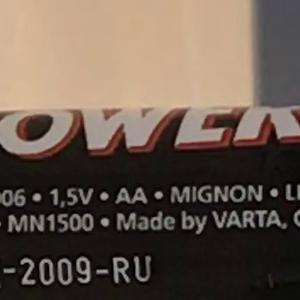1,5V: (41, 179, 103, 214)
